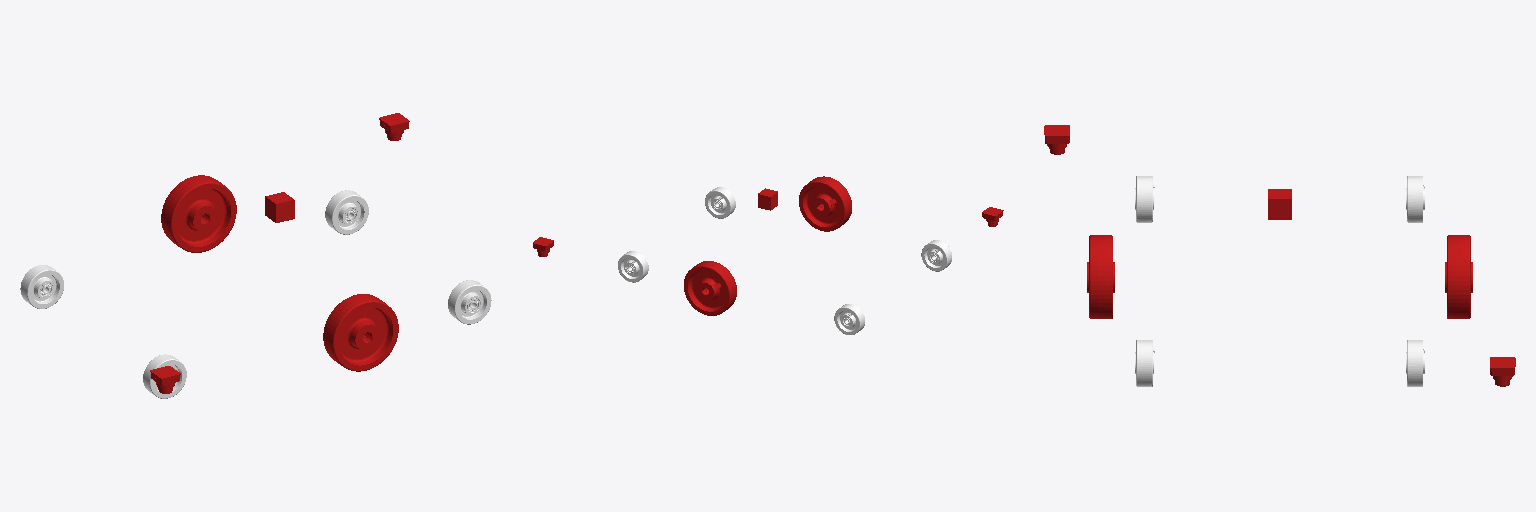
--- Render facts (derived) ---
The picture shows the robot from 3 angles, left to right: view 1: azimuth 30°, elevation 25°; view 2: azimuth 150°, elevation 25°; view 3: azimuth 270°, elevation 25°; orthographic projection.
Model amr_adsiz_sim with 15 links and 14 joints (10 continuous, 4 fixed), rooted at chassis_link, posed every joint at zero.
Visible links, largest first — view 1: sag_teker_link, sol_teker_link, on_sol_teker_link, on_sag_teker_link, arka_sol_teker_link, arka_sag_teker_link, imu_link, rear_lidar_link, front_lidar_link; view 2: sag_teker_link, sol_teker_link, on_sag_teker_link, on_sol_teker_link, arka_sag_teker_link, arka_sol_teker_link; view 3: sag_teker_link, sol_teker_link, on_sag_teker_link, arka_sag_teker_link, on_sol_teker_link, arka_sol_teker_link, imu_link, rear_lidar_link, front_lidar_link.
Boxes of the visible links, <box> form: sag_teker_link: <box>323,294,398,371</box>; sol_teker_link: <box>161,175,236,252</box>; on_sol_teker_link: <box>325,190,368,234</box>; on_sag_teker_link: <box>448,280,491,324</box>; arka_sol_teker_link: <box>20,265,63,308</box>; arka_sag_teker_link: <box>143,354,186,398</box>; imu_link: <box>265,192,294,222</box>; rear_lidar_link: <box>150,366,180,393</box>; front_lidar_link: <box>379,113,409,140</box>; sag_teker_link: <box>799,176,851,231</box>; sol_teker_link: <box>684,261,736,315</box>; on_sag_teker_link: <box>705,187,735,218</box>; on_sol_teker_link: <box>618,251,648,282</box>; arka_sag_teker_link: <box>921,240,951,271</box>; arka_sol_teker_link: <box>834,304,864,334</box>; sag_teker_link: <box>1087,235,1114,318</box>; sol_teker_link: <box>1445,235,1472,318</box>; on_sag_teker_link: <box>1135,340,1154,386</box>; arka_sag_teker_link: <box>1135,176,1154,222</box>; on_sol_teker_link: <box>1406,340,1424,386</box>; arka_sol_teker_link: <box>1406,176,1424,222</box>; imu_link: <box>1268,189,1291,219</box>; rear_lidar_link: <box>1044,125,1069,154</box>; front_lidar_link: <box>1490,357,1515,386</box>.
Size in the robot's own frame: 1.22 by 1 by 0.2848 metres.
Meshes: 12 distinct files referenced, 8 mesh visuals loaded (7 binary STL); not drawn: 5 (reference not matched to a file when rendering).

robot.urdf — amr_adsiz_sim:
<?xml version="1.0" encoding="utf-8"?>
<!-- This URDF was automatically created by SolidWorks to URDF Exporter! Originally created by Stephen Brawner ([email redacted]) 
     Commit Version: 1.6.0-1-g15f4949  Build Version: 1.6.7594.29634
     For more information, please see http://wiki.ros.org/sw_urdf_exporter -->
<robot name="amr_adsiz_sim">

  <material name="black">
    <color rgba="0.0 0.0 0.0 1.0"/>
  </material>

  <material name="blue">
    <color rgba="0.203125 0.23828125 0.28515625 1.0"/>
  </material>

  <material name="green">
    <color rgba="0.0 0.8 0.0 1.0"/>
  </material>

  <material name="grey">
    <color rgba="0.2 0.2 0.2 1.0"/>
  </material>

  <material name="orange">
    <color rgba="1.0 0.423529411765 0.0392156862745 1.0"/>
  </material>

  <material name="brown">
    <color rgba="0.870588235294 0.811764705882 0.764705882353 1.0"/>
  </material>

  <material name="red">
    <color rgba="0.80078125 0.12890625 0.1328125 1.0"/>
  </material>

  <material name="white">
    <color rgba="1.0 1.0 1.0 1.0"/>
  </material>

  <material name="yellow">
    <color rgba="1 1 0 1"/>
  </material>

  <gazebo reference="chassis_link">
    <material>Gazebo/White</material>
  </gazebo>

  <gazebo reference="sag_teker_link">
    <material>Gazebo/Red</material>
  </gazebo>

  <gazebo reference="sol_teker_link">
    <material>Gazebo/Red</material>
  </gazebo>

  <gazebo reference="on_sag_tutucu_link">
    <material>Gazebo/Black</material>
  </gazebo>

  <gazebo reference="on_sag_teker_link">
    <material>Gazebo/Red</material>
  </gazebo>

  <gazebo reference="on_sol_tutucu_link">
    <material>Gazebo/Black</material>
  </gazebo>

  <gazebo reference="on_sol_teker_link">
    <material>Gazebo/Red</material>
  </gazebo>

  <gazebo reference="arka_sag_tutucu_link">
    <material>Gazebo/Black</material>
  </gazebo>

  <gazebo reference="arka_sag_teker_link">
    <material>Gazebo/Red</material>
  </gazebo>

  <gazebo reference="arka_sol_tutucu_link">
    <material>Gazebo/Black</material>
  </gazebo>

  <gazebo reference="arka_sol_teker_link">
    <material>Gazebo/Red</material>
  </gazebo>

  <gazebo reference="rplidar_link_1">
    <material>Gazebo/Red</material>
  </gazebo>

  <gazebo reference="rplidar_link_2">
    <material>Gazebo/Red</material>
  </gazebo>

  <gazebo reference="imu_link">
    <material>Gazebo/Red</material>
  </gazebo>

  <link name="chassis_link">
    <inertial>
      <origin
        xyz="0.0 -0.000108062024404124 0.0669807514703995"
        rpy="0 0 0" />
      <mass
        value="10" />
      <inertia
        ixx="0.237045998390451"
        ixy="-0.000725330354858257"
        ixz="-0.0014751628195524"
        iyy="0.701311281208945"
        iyz="3.10682404345573E-05"
        izz="0.877731020869437" />
    </inertial>
    <visual>
      <origin
        xyz="0 0 0"
        rpy="0 0 0" />
      <geometry>
        <mesh
          filename="package://amr_adsiz/meshes/chassis_link.STL" />
      </geometry>
      <material
        name="blue">
      </material>
    </visual>
    <collision>
      <origin
        xyz="0 0 0"
        rpy="0 0 0" />
      <geometry>
        <mesh
          filename="package://amr_adsiz/meshes/chassis_link.STL" />
      </geometry>
    </collision>
  </link>

  <link name="sag_teker_link">
    <inertial>
      <origin
        xyz="-2.99889664261421E-08 -0.000107776579474477 1.85798732992848E-05"
        rpy="0 0 0" />
      <mass
        value="0.742619479253151" />
      <inertia
        ixx="0.00185839652396693"
        ixy="1.6254749332016E-09"
        ixz="5.04509997352955E-10"
        iyy="0.00185642805350024"
        iyz="4.81968082851778E-07"
        izz="0.00342823078649069" />
    </inertial>
    <visual>
      <origin
        xyz="0 0 0"
        rpy="0 0 0" />
      <geometry>
        <mesh
          filename="package://amr_adsiz/meshes/sag_teker_link.STL" />
      </geometry>
      <material
        name="red">
      </material>
    </visual>
    <collision>
      <origin
        xyz="0 0 0"
        rpy="0 0 0" />
      <geometry>
        <mesh
          filename="package://amr_adsiz/meshes/sag_teker_link.STL" />
      </geometry>
    </collision>
  </link>

  <joint  name="sag_teker_joint"
    type="continuous">
    <origin
      xyz="0 -0.379999999999999 0"
      rpy="-1.5707963267949 -1.05060120835241 0" />
    <parent
      link="chassis_link" />
    <child
      link="sag_teker_link" />
    <axis
      xyz="0 0 1" />
  </joint>

  <link name="sol_teker_link">
    <inertial>
      <origin
        xyz="-2.99889664450206E-08 -0.000107776579473995 1.85798732992293E-05"
        rpy="0 0 0" />
      <mass
        value="0.742619479253146" />
      <inertia
        ixx="0.00185839652396692"
        ixy="1.62547493390633E-09"
        ixz="5.04509997686025E-10"
        iyy="0.00185642805350023"
        iyz="4.81968082849548E-07"
        izz="0.00342823078649066" />
    </inertial>
    <visual>
      <origin
        xyz="0 0 0"
        rpy="0 0 0" />
      <geometry>
        <mesh
          filename="package://amr_adsiz/meshes/sol_teker_link.STL" />
      </geometry>
      <material
        name="red">
      </material>
    </visual>
    <collision>
      <origin
        xyz="0 0 0"
        rpy="0 0 0" />
      <geometry>
        <mesh
          filename="package://amr_adsiz/meshes/sol_teker_link.STL" />
      </geometry>
    </collision>
  </link>

  <joint  name="sol_teker_joint"
    type="continuous">
    <origin
      xyz="0 0.38 0"
      rpy="-1.5707963267949 -1.05060120835241 0" />
    <parent
      link="chassis_link" />
    <child
      link="sol_teker_link" />
    <axis
      xyz="0 0 1" />
  </joint>

  <link name="on_sag_tutucu_link">
    <inertial>
      <origin
        xyz="0.00513076819092001 7.52904488288131E-06 0.0306071432612776"
        rpy="0 0 0" />
      <mass
        value="0.719371404400767" />
      <inertia
        ixx="0.000553451184742019"
        ixy="2.01387315697384E-07"
        ixz="1.43437168310862E-07"
        iyy="0.000758441303621985"
        iyz="-3.83579228408369E-08"
        izz="0.00100552138356401" />
    </inertial>
    <visual>
      <origin
        xyz="0 0 0"
        rpy="0 0 0" />
      <geometry>
        <mesh
          filename="package://amr_adsiz/meshes/on_sag_tutucu_link.STL" />
      </geometry>
      <material
        name="orange">
      </material>
    </visual>
    <collision>
      <origin
        xyz="0 0 0"
        rpy="0 0 0" />
      <geometry>
        <mesh
          filename="package://amr_adsiz/meshes/on_sag_tutucu_link.STL" />
      </geometry>
    </collision>
  </link>

  <joint name="on_sag_tutucu_joint"
    type="continuous">
    <origin
      xyz="0.412499999999999 -0.287499999999999 0.00022"
      rpy="0 0 0" />
    <parent
      link="chassis_link" />
    <child
      link="on_sag_tutucu_link" />
    <axis
      xyz="0 0 1" />
  </joint>

  <link name="on_sag_teker_link">
    <inertial>
      <origin
        xyz="0.000113208138536658 -0.000190157654729461 8.10358038148551E-05"
        rpy="0 0 0" />
      <mass
        value="0.194095018430783" />
      <inertia
        ixx="0.000155058694911418"
        ixy="5.15406215591096E-07"
        ixz="-1.79221308041249E-07"
        iyy="0.000154499610354878"
        iyz="3.01044114363886E-07"
        izz="0.000275131859894116" />
    </inertial>

    <visual>
      <origin
        xyz="0 0 0"
        rpy="0 0 0" />
      <geometry>
        <mesh
          filename="package://amr_adsiz/meshes/on_sag_teker_link.STL" />
      </geometry>
      <material
        name="white">
      </material>
    </visual>
    <collision>
      <origin
        xyz="0 0 0"
        rpy="0 0 0" />
      <geometry>
        <mesh
          filename="package://amr_adsiz/meshes/on_sag_teker_link.STL" />
      </geometry>
    </collision>
  </link>

  <joint  name="on_sag_teker_joint"
    type="continuous">
    <origin
      xyz="-0.0649999999999994 0 -0.0400000249999986"
      rpy="-1.5707963267949 -0.8480411676948 0" />
    <parent
      link="on_sag_tutucu_link" />
    <child
      link="on_sag_teker_link" />
    <axis
      xyz="0 0 1" />
  </joint>

  <link name="on_sol_tutucu_link">
    <inertial>
      <origin
        xyz="0.00513076818936259 7.52904522954845E-06 0.0306071432572112"
        rpy="0 0 0" />
      <mass
        value="0.719371404336981" />
      <inertia
        ixx="0.000553451184740493"
        ixy="2.01387309638401E-07"
        ixz="1.43437164512671E-07"
        iyy="0.000758441303586185"
        iyz="-3.83579221761341E-08"
        izz="0.00100552138352772" />
    </inertial>
    <visual>
      <origin
        xyz="0 0 0"
        rpy="0 0 0" />
      <geometry>
        <mesh
          filename="package://amr_adsiz/meshes/on_sol_tutucu_link.STL" />
      </geometry>
      <material
        name="orange">
      </material>
    </visual>
    <collision>
      <origin
        xyz="0 0 0"
        rpy="0 0 0" />
      <geometry>
        <mesh
          filename="package://amr_adsiz/meshes/on_sol_tutucu_link.STL" />
      </geometry>
    </collision>
  </link>

  <joint name="on_sol_tutucu_joint"
    type="continuous">
    <origin
      xyz="0.4125 0.287500000000001 0.00022"
      rpy="0 0 0" />
    <parent
      link="chassis_link" />
    <child
      link="on_sol_tutucu_link" />
    <axis
      xyz="0 0 1" />
  </joint>

  <link name="on_sol_teker_link">
    <inertial>
      <origin
        xyz="0.000113208138536686 -0.000190157654729461 8.10358038159653E-05"
        rpy="0 0 0" />
      <mass
        value="0.194095018430783" />
      <inertia
        ixx="0.000155058694911275"
        ixy="5.1540621559109E-07"
        ixz="-1.79221308041222E-07"
        iyy="0.000154499610354735"
        iyz="3.01044114363842E-07"
        izz="0.000275131859894116" />
    </inertial>
    <visual>
      <origin
        xyz="0 0 0"
        rpy="0 0 0" />
      <geometry>
        <mesh
          filename="package://amr_adsiz/meshes/on_sol_teker_link.STL" />
      </geometry>
      <material
        name="white">
      </material>
    </visual>
    <collision>
      <origin
        xyz="0 0 0"
        rpy="0 0 0" />
      <geometry>
        <mesh
          filename="package://amr_adsiz/meshes/on_sol_teker_link.STL" />
      </geometry>
    </collision>
  </link>

  <joint  name="on_sol_teker_joint"
    type="continuous">
    <origin
      xyz="-0.0649999999999993 0 -0.0400000249999989"
      rpy="-1.5707963267949 -0.8480411676948 0" />
    <parent
      link="on_sol_tutucu_link" />
    <child
      link="on_sol_teker_link" />
    <axis
      xyz="0 0 1" />
  </joint>

  <link name="arka_sag_tutucu_link">
    <inertial>
      <origin
        xyz="0.0051307681909204 7.5290448833254E-06 0.030607143261281"
        rpy="0 0 0" />
      <mass
        value="0.719371404400767" />
      <inertia
        ixx="0.000553451184742019"
        ixy="2.01387315697544E-07"
        ixz="1.43437168310866E-07"
        iyy="0.000758441303621985"
        iyz="-3.83579228408346E-08"
        izz="0.00100552138356401" />
    </inertial>
    <visual>
      <origin
        xyz="0 0 0"
        rpy="0 0 0" />
      <geometry>
        <mesh
          filename="package://amr_adsiz/meshes/arka_sag_tutucu_link.STL" />
      </geometry>
      <material
        name="orange">
      </material>
    </visual>
    <collision>
      <origin
        xyz="0 0 0"
        rpy="0 0 0" />
      <geometry>
        <mesh
          filename="package://amr_adsiz/meshes/arka_sag_tutucu_link.STL" />
      </geometry>
    </collision>
  </link>

  <joint  name="arka_sag_tutucu_joint"
    type="continuous">
    <origin
      xyz="-0.412500000000001 -0.287499999999999 0.00022"
      rpy="0 0 0" />
    <parent
      link="chassis_link" />
    <child
      link="arka_sag_tutucu_link" />
    <axis
      xyz="0 0 1" />
  </joint>

  <link name="arka_sag_teker_link">
    <inertial>
      <origin
        xyz="0.000113208138536491 -0.000190157654729739 8.10358038164649E-05"
        rpy="0 0 0" />
      <mass
        value="0.194095018430783" />
      <inertia
        ixx="0.000155058694911275"
        ixy="5.15406215591063E-07"
        ixz="-1.79221308041212E-07"
        iyy="0.000154499610354735"
        iyz="3.01044114363838E-07"
        izz="0.000275131859894116" />
    </inertial>
    <visual>
      <origin
        xyz="0 0 0"
        rpy="0 0 0" />
      <geometry>
        <mesh
          filename="package://amr_adsiz/meshes/arka_sag_teker_link.STL" />
      </geometry>
      <material
        name="white">
      </material>
    </visual>
    <collision>
      <origin
        xyz="0 0 0"
        rpy="0 0 0" />
      <geometry>
        <mesh
          filename="package://amr_adsiz/meshes/arka_sag_teker_link.STL" />
      </geometry>
    </collision>
  </link>

  <joint  name="arka_sag_teker_joint"
    type="continuous">
    <origin
      xyz="-0.0649999999999995 0 -0.0400000249999993"
      rpy="-1.5707963267949 -0.8480411676948 0" />
    <parent
      link="arka_sag_tutucu_link" />
    <child
      link="arka_sag_teker_link" />
    <axis
      xyz="0 0 1" />
  </joint>

  <link name="arka_sol_tutucu_link">
    <inertial>
      <origin
        xyz="0.00513076819092073 7.52904488354744E-06 0.0306071432612809"
        rpy="0 0 0" />
      <mass
        value="0.719371404400766" />
      <inertia
        ixx="0.000553451184742019"
        ixy="2.01387315697528E-07"
        ixz="1.43437168310884E-07"
        iyy="0.000758441303621985"
        iyz="-3.83579228407454E-08"
        izz="0.00100552138356401" />
    </inertial>
    <visual>
      <origin
        xyz="0 0 0"
        rpy="0 0 0" />
      <geometry>
        <mesh
          filename="package://amr_adsiz/meshes/arka_sol_tutucu_link.STL" />
      </geometry>
      <material
        name="orange">
      </material>
    </visual>
    <collision>
      <origin
        xyz="0 0 0"
        rpy="0 0 0" />
      <geometry>
        <mesh
          filename="package://amr_adsiz/meshes/arka_sol_tutucu_link.STL" />
      </geometry>
    </collision>
  </link>

  <joint  name="arka_sol_tutucu_joint"
    type="continuous">
    <origin
      xyz="-0.412500000000001 0.287500000000016 0.00022"
      rpy="0 0 0" />
    <parent
      link="chassis_link" />
    <child
      link="arka_sol_tutucu_link" />
    <axis
      xyz="0 0 1" />
  </joint>

  <link name="arka_sol_teker_link">
    <inertial>
      <origin
        xyz="0.000113208138536214 -0.000190157654730017 8.10358038161318E-05"
        rpy="0 0 0" />
      <mass
        value="0.194095018430783" />
      <inertia
        ixx="0.000155058694911275"
        ixy="5.15406215591096E-07"
        ixz="-1.79221308041223E-07"
        iyy="0.000154499610354735"
        iyz="3.0104411436385E-07"
        izz="0.000275131859894116" />
    </inertial>
    <visual>
      <origin
        xyz="0 0 0"
        rpy="0 0 0" />
      <geometry>
        <mesh
          filename="package://amr_adsiz/meshes/arka_sol_teker_link.STL" />
      </geometry>
      <material
        name="white">
      </material>
    </visual>
    <collision>
      <origin
        xyz="0 0 0"
        rpy="0 0 0" />
      <geometry>
        <mesh
          filename="package://amr_adsiz/meshes/arka_sol_teker_link.STL" />
      </geometry>
    </collision>
  </link>

  <joint  name="arka_sol_teker_joint"
    type="continuous">
    <origin
      xyz="-0.0649999999999997 0 -0.0400000249999995"
      rpy="-1.5707963267949 -0.8480411676948 0" />
    <parent
      link="arka_sol_tutucu_link" />
    <child
      link="arka_sol_teker_link" />
    <axis
      xyz="0 0 1" />
  </joint>

  <link name="main_lidar_link">
    <inertial>
      <origin xyz="0 0 0" rpy="0 0 0" />
      <mass value="0.0" />
      <inertia ixx="0" ixy="0" ixz="0" iyy="0" iyz="0" izz="0" />
    </inertial>
    <!-- <visual>
      <origin xyz="0 0 0" rpy="0 0 0" />
      <geometry>
        <mesh filename="package://amr_endustriyel_description/meshes/rplidar_link.STL" />
      </geometry>
      <material name="">
        <color rgba="0.79216 0.81961 0.93333 1" />
      </material>
    </visual> -->
    <!-- <collision>
      <origin xyz="0 0 0" rpy="0 0 0" />
      <geometry>
        <mesh filename="package://amr_endustriyel_description/meshes/rplidar_link.STL" />
      </geometry>
    </collision> -->
  </link>

  <joint name="main_lidar_joint" type="fixed">
    <origin xyz="0 0 0.032" rpy="0 0 0" />
    <parent link="chassis_link" />
    <child link="main_lidar_link" />
    <axis xyz="0 0 0" />
  </joint>

  <link name="front_lidar_link">
    <inertial>
      <mass value="0.1" />
      <origin xyz="0 0 0" rpy="0 0 0"/>
      <inertia ixx="1e-6" ixy="0" ixz="0" iyy="1e-6" iyz="0" izz="1e-6" />
    </inertial>
    <visual>
      <origin xyz="0 0 0" rpy="0 0 0" />
      <geometry>
        <mesh filename="package://amr_adsiz/meshes/rplidar_link.STL" />
      </geometry>
      <material
        name="red">
      </material>
    </visual>
    <collision>
      <origin xyz="0 0 0" rpy="0 0 0" /> 
      <geometry>
        <mesh filename="package://amr_adsiz/meshes/rplidar_link.STL" />
      </geometry>
    </collision>
  </link>

  <joint name="front_lidar_joint" type="fixed">
    <origin xyz="0.583 0.473 0.032" rpy="3.14 0 0" />
    <parent link="chassis_link" />
    <child link="front_lidar_link" />
    <axis xyz="0 0 0" />
  </joint>

  <link name="rear_lidar_link">
    <inertial>
      <mass value="0.1" />
      <origin xyz="0 0 0" rpy="0 0 0"/>
      <inertia ixx="1e-6" ixy="0" ixz="0" iyy="1e-6" iyz="0" izz="1e-6" />
    </inertial>
    <visual>
      <origin xyz="0 0 0" rpy="0 0 0" />
      <geometry>
        <mesh filename="package://amr_adsiz/meshes/rplidar_link.STL" />
      </geometry>
      <material
        name="red">
      </material>
    </visual>
    <collision>
      <origin xyz="0 0 0" rpy="0 0 0" /> 
      <geometry>
        <mesh filename="package://amr_adsiz/meshes/rplidar_link.STL" />
      </geometry>
    </collision>
  </link>

  <joint name="rear_lidar_joint" type="fixed">
    <origin xyz="-0.583 -0.473 0.032" rpy="3.14 0 0" />
    <parent link="chassis_link" />
    <child link="rear_lidar_link" />
    <axis xyz="0 0 0" />
  </joint>

  <!-- <link name="depth_cam_link">
    <inertial>
      <origin
        xyz="0.000113208138536214 -0.000190157654730017 8.10358038161318E-05"
        rpy="0 0 0" />
      <mass
        value="0.194095018430783" />
      <inertia
        ixx="0.000155058694911275"
        ixy="5.15406215591096E-07"
        ixz="-1.79221308041223E-07"
        iyy="0.000154499610354735"
        iyz="3.0104411436385E-07"
        izz="0.000275131859894116" />
    </inertial>
    <visual>
      <origin
        xyz="0 0 0"
        rpy="0 0 0" />
      <geometry>
        <mesh
          filename="package://amr_adsiz/meshes/D435.STL" scale="0.001 0.001 0.001"/>
      </geometry>
      <material
        name="red">
      </material>
    </visual>
    <collision>
      <origin
        xyz="0 0 0"
        rpy="0 0 0" />
      <geometry>
        <mesh
          filename="package://amr_adsiz/meshes/D435.STL" scale="0.001 0.001 0.001"/>
      </geometry>
    </collision>
  </link>

  <joint  name="depth_cam_joint"
    type="fixed">
    <origin
      xyz="0.614 -0.043 -0.025"
      rpy="1.55 0 1.57" />
    <parent
      link="chassis_link" />
    <child
      link="depth_cam_link" />
    <axis
      xyz="0 0 0" />
  </joint> -->

  <link name="imu_link">
    <visual>
      <geometry>
        <box size="0.05 0.05 0.05"/>
      </geometry>
      <material name="red"/>
    </visual>

    <collision>
      <geometry>
        <box size="0.01 0.01 0.01"/>
      </geometry>
    </collision>

    <inertial>
      <mass value="0.1" />
      <origin xyz="0 0 0" rpy="0 0 0"/>
      <inertia ixx="1e-6" ixy="0" ixz="0" iyy="1e-6" iyz="0" izz="1e-6" />
    </inertial>
  </link>

  <joint name="imu_joint" type="fixed">
    <origin xyz="0 0 0.17" rpy="0 0 0"/>
    <parent link="chassis_link"/>
    <child link="imu_link"/>
  </joint>

  <gazebo>
    <plugin name="differential_drive_controller" filename="libgazebo_ros_diff_drive.so">
      <updateRate>40.0</updateRate>
      <leftJoint>sol_teker_joint</leftJoint>
      <rightJoint>sag_teker_joint</rightJoint>
      <wheelSeparation>0.7</wheelSeparation>
      <wheelDiameter>0.15</wheelDiameter>
      <wheelAcceleration>1000.0</wheelAcceleration>
      <wheelTorque>50000</wheelTorque>
      <commandTopic>cmd_vel</commandTopic>
      <odometryTopic>odom1</odometryTopic>
      <odometryFrame>odom</odometryFrame>
      <robotBaseFrame>chassis_link</robotBaseFrame>
      <odometrySource>world</odometrySource>
      <publishWheelTF>false</publishWheelTF>
      <publishOdomTF>false</publishOdomTF>
      <publishWheelJointState>false</publishWheelJointState>     
      <legacyMode>false</legacyMode>
      <alwaysOn>true</alwaysOn>
      <publishTf>0</publishTf>
      <rosDebugLevel>na</rosDebugLevel>
      <torque>1000</torque>
    </plugin>
  </gazebo>

  <gazebo reference="imu_link">
    <gravity>true</gravity>
    <sensor name="imu_sensor" type="imu">
      <always_on>true</always_on>
      <update_rate>20.0</update_rate>
      <visualize>true</visualize>
      <topic>__default_topic__</topic>
      <plugin filename="libgazebo_ros_imu_sensor.so" name="imu_plugin">
        <topicName>imu</topicName>
        <bodyName>imu_link</bodyName>
        <updateRateHZ>20.0</updateRateHZ>
        <gaussianNoise>0.0</gaussianNoise>
        <xyzOffset>0 0 0</xyzOffset>
        <rpyOffset>0 0 0</rpyOffset>
        <frameName>imu_link</frameName>
      </plugin>
      <pose>0 0 0 0 0 0</pose>
    </sensor>
  </gazebo>

  <gazebo reference="rear_lidar_link">
    <sensor type="ray" name="head_rear_lidar_sensor">
      <pose>0 0 0 0 0 0</pose>
      <visualize>false</visualize>
      <update_rate>10</update_rate>
      <ray>
        <scan>
          <horizontal>
            <samples>920</samples>
            <resolution>1</resolution>
            <min_angle>0</min_angle>
            <max_angle>6.28319</max_angle>
          </horizontal>
        </scan>
        <range>
          <min>0.1</min>
          <max>40.0</max>
          <resolution>0.03</resolution>
        </range>
        <noise>
          <type>gaussian</type>
          <!-- Noise parameters based on published spec for Hokuyo laser
               achieving "+-30mm" accuracy at range < 10m.  A mean of 0.0m and
               stddev of 0.01m will put 99.7% of samples within 0.03m of the true
               reading. -->
          <mean>0.0</mean>
          <stddev>0.01</stddev>
        </noise>
      </ray>
      <plugin name="gazebo_ros_rear_lidar_controller" filename="libgazebo_ros_laser.so">
        <topicName>scan_rear</topicName>
        <frameName>rear_lidar_link</frameName>
      </plugin>
    </sensor>
  </gazebo> 

  <gazebo reference="front_lidar_link">
    <sensor type="ray" name="head_front_lidar_sensor">
      <pose>0 0 0 0 0 0</pose>
      <visualize>false</visualize>
      <update_rate>10</update_rate>
      <ray>
        <scan>
          <horizontal>
            <samples>920</samples>
            <resolution>1</resolution>
            <min_angle>0</min_angle>
            <max_angle>6.28319</max_angle>
          </horizontal>
        </scan>
        <range>
          <min>0.1</min>
          <max>40.0</max>
          <resolution>0.03</resolution>
        </range>
        <noise>
          <type>gaussian</type>
          <!-- Noise parameters based on published spec for Hokuyo laser
               achieving "+-30mm" accuracy at range < 10m.  A mean of 0.0m and
               stddev of 0.01m will put 99.7% of samples within 0.03m of the true
               reading. -->
          <mean>0.0</mean>
          <stddev>0.01</stddev>
        </noise>
      </ray>
      <plugin name="gazebo_ros_front_lidar_controller" filename="libgazebo_ros_laser.so">
        <topicName>scan_front</topicName>
        <frameName>front_lidar_link</frameName>
      </plugin>
    </sensor>
  </gazebo>

</robot>
